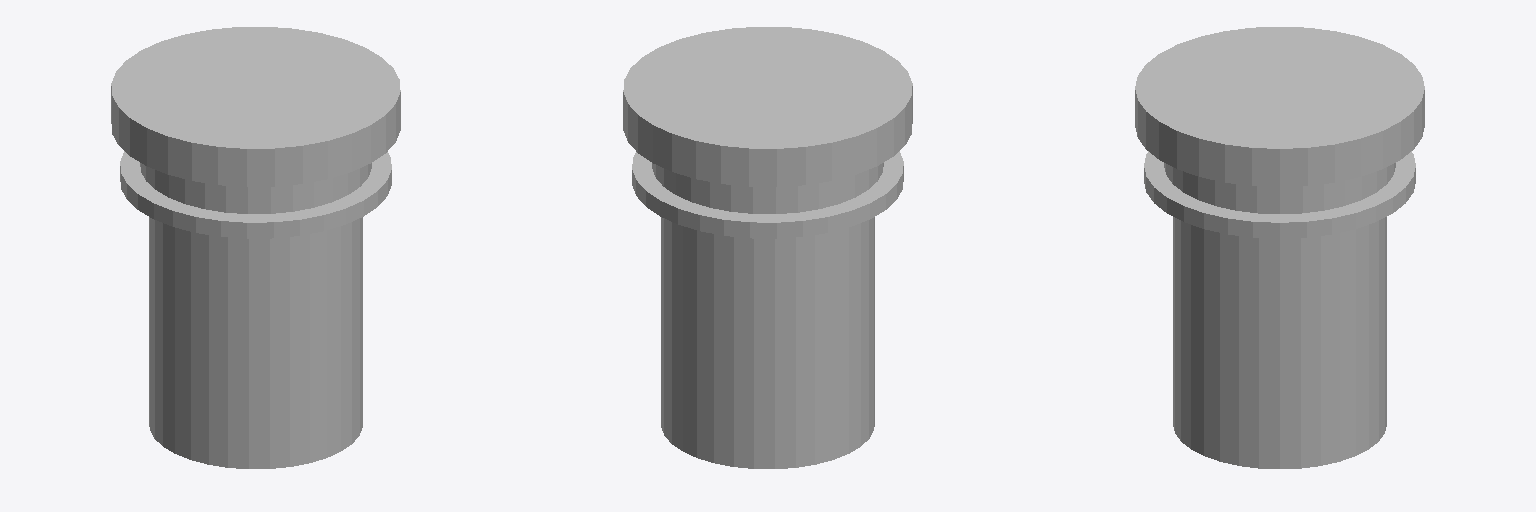
File: H_pastillas.obj
The picture shows the model from 3 angles: view 1: azimuth 30°, elevation 25°; view 2: azimuth 150°, elevation 25°; view 3: azimuth 270°, elevation 25°; orthographic projection.
Visible parts, largest first — view 1: Cilindro; view 2: Cilindro; view 3: Cilindro.
Part boxes in pixels (left/top/right/bottom): Cilindro: left=111, top=27, right=400, bottom=468; Cilindro: left=623, top=27, right=912, bottom=468; Cilindro: left=1135, top=27, right=1424, bottom=468.
Size of the model in its own units: 0.3579 by 0.4582 by 0.3579.